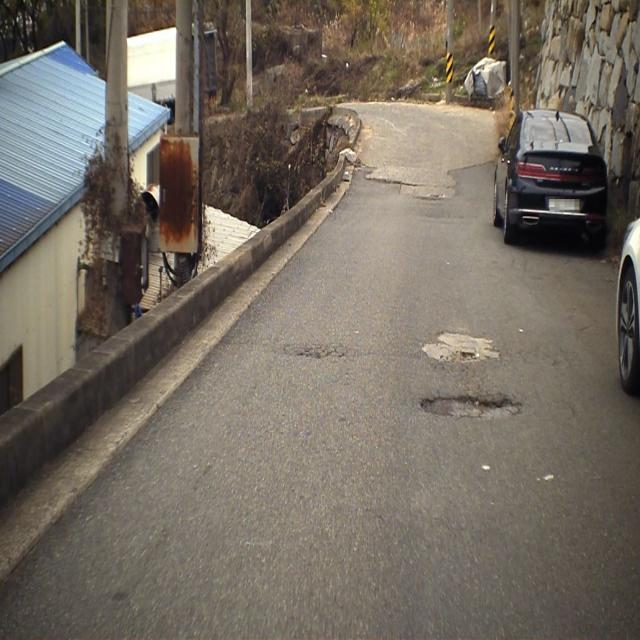Pothole: (419, 381, 526, 433), (418, 329, 499, 372)
